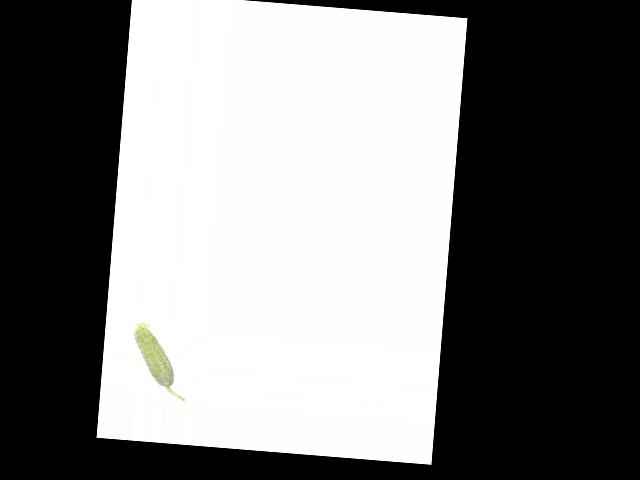cucumber: (128, 320, 190, 400)
